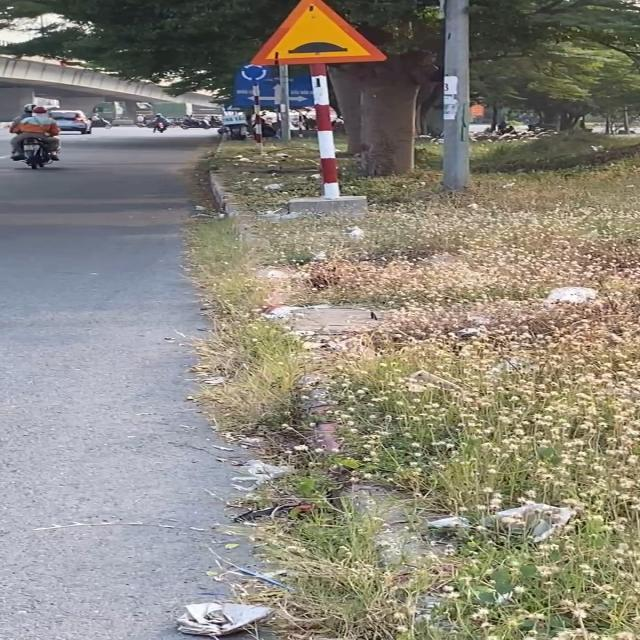221-duong-go-ghe: (249, 0, 389, 68)
303-noi-giao-nhau-chay-theo-vong-xuyen: (238, 62, 270, 84)
